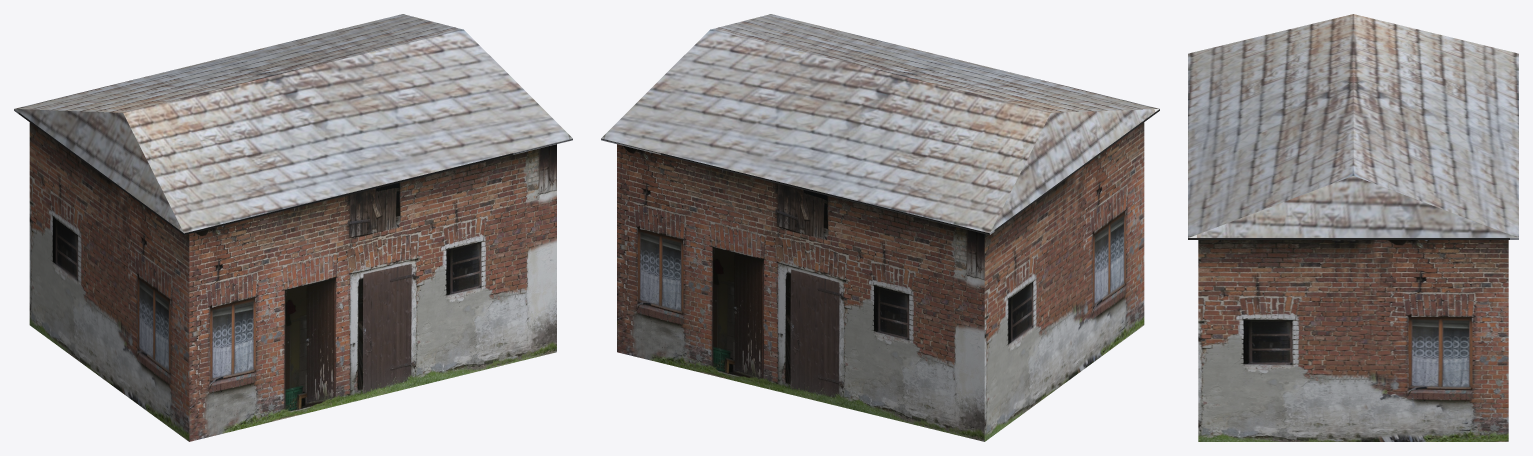
Rendered from houseold02.fbx.
3 renders of one model, left to right at view 1: azimuth 30°, elevation 25°; view 2: azimuth 150°, elevation 25°; view 3: azimuth 270°, elevation 25°, orthographic. The views are drawn at different scales.
Parts seen in each view (by area): view 1: House; view 2: House; view 3: House.
Part boxes in pixels (left/top/right/bottom): House: left=14, top=14, right=572, bottom=441; House: left=601, top=14, right=1159, bottom=441; House: left=1188, top=14, right=1518, bottom=441.
Size of the model in its own units: 9.97 by 6.55 by 7.55.
